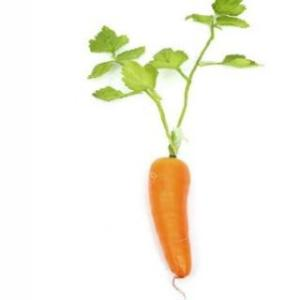carrot: (134, 150, 212, 288)
